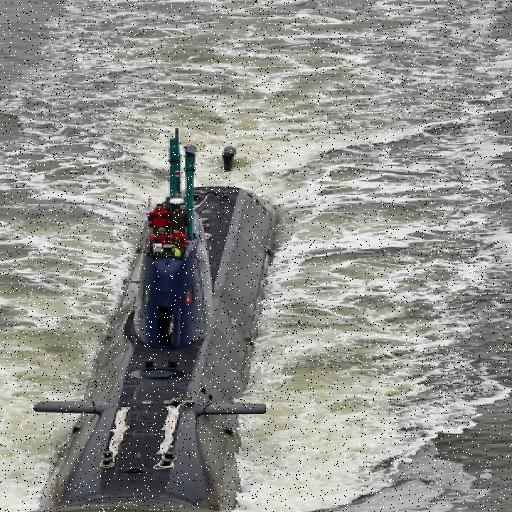submarine: (23, 150, 314, 512)
